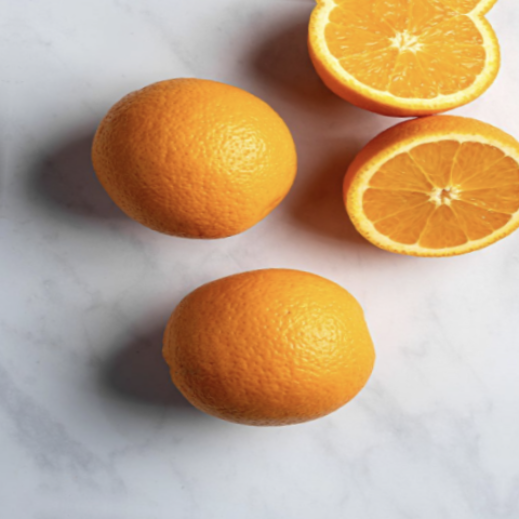orange: (152, 245, 386, 442), (88, 57, 310, 258)
